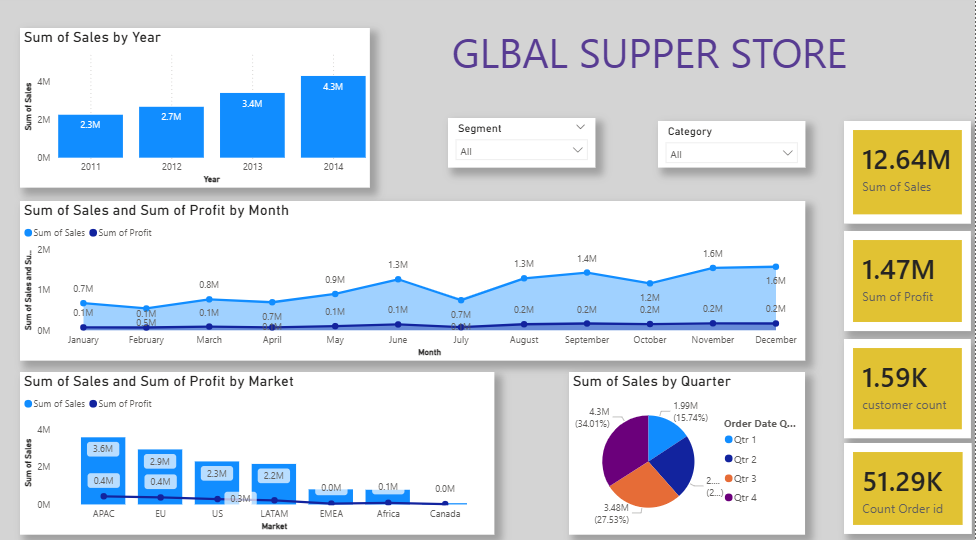

The page's visual inventory and layout, read from the dashboard file:
{"tool":"powerbi","page":{"name":"Page 1","canvas":[1280,720],"ordinal":0},"visuals":[{"type":"columnChart","fields":{"Category":["Sheet1.Order Date.Variation.Date Hierarchy.Year"],"Y":["Sum(Sheet1.Sales)"]},"box":[30,43.8,457.5,208.8],"z":0},{"type":"cardVisual","fields":{"Data":["Sum(Sheet1.Sales)"]},"box":[1108.8,164.9,166.3,134.8],"z":1000},{"type":"cardVisual","fields":{"Data":["Sum(Sheet1.Profit)"]},"box":[1108.8,308.8,166.2,131.2],"z":2000},{"type":"cardVisual","fields":{"Data":["Sheet1.Number of customer"]},"box":[1108.8,450,166.2,130],"z":3000},{"type":"cardVisual","fields":{"Data":["Sheet1.Count of Order id"]},"box":[1108.8,586.5,167.6,119.1],"z":4000},{"type":"slicer","fields":{"Values":["Sheet1.Segment"]},"box":[590,161.2,192.5,65],"z":5000},{"type":"slicer","fields":{"Values":["Sheet1.Category"]},"box":[865,165,192.5,61.2],"z":6000},{"type":"areaChart","fields":{"Category":["Sheet1.Order Date.Variation.Date Hierarchy.Month"],"Y":["Sum(Sheet1.Sales)","Sum(Sheet1.Profit)"]},"box":[30,270,1027.5,208.8],"z":7000},{"type":"lineClusteredColumnComboChart","fields":{"Y":["Sum(Sheet1.Sales)"],"Category":["Sheet1.Market"],"Y2":["Sum(Sheet1.Profit)"]},"box":[30,493.8,621.2,212.5],"z":8000},{"type":"pieChart","fields":{"Category":["Sheet1.Order Date.Variation.Date Hierarchy.Quarter"],"Y":["Sum(Sheet1.Sales)"]},"box":[748.8,493.8,308.8,212.5],"z":9000},{"type":"textbox","box":[590,32.5,570,82.5],"z":10000}]}

Visuals, with their boxes in screenshot pixels (x1, y1, x2, y2), scaled from the page's 1280x720 canvas onto the 976x540 screenshot:
columnChart - Sheet1.Order Date.Variation.Date Hierarchy.Year x Sum(Sheet1.Sales): Rect(23, 33, 372, 189)
cardVisual - Sum(Sheet1.Sales): Rect(845, 124, 972, 225)
cardVisual - Sum(Sheet1.Profit): Rect(845, 232, 972, 330)
cardVisual - Sheet1.Number of customer: Rect(845, 338, 972, 435)
cardVisual - Sheet1.Count of Order id: Rect(845, 440, 973, 529)
slicer - Sheet1.Segment: Rect(450, 121, 597, 170)
slicer - Sheet1.Category: Rect(660, 124, 806, 170)
areaChart - Sheet1.Order Date.Variation.Date Hierarchy.Month x Sum(Sheet1.Sales): Rect(23, 202, 806, 359)
lineClusteredColumnComboChart - Sum(Sheet1.Sales) x Sheet1.Market: Rect(23, 370, 497, 530)
pieChart - Sheet1.Order Date.Variation.Date Hierarchy.Quarter x Sum(Sheet1.Sales): Rect(571, 370, 806, 530)
textbox: Rect(450, 24, 884, 86)
